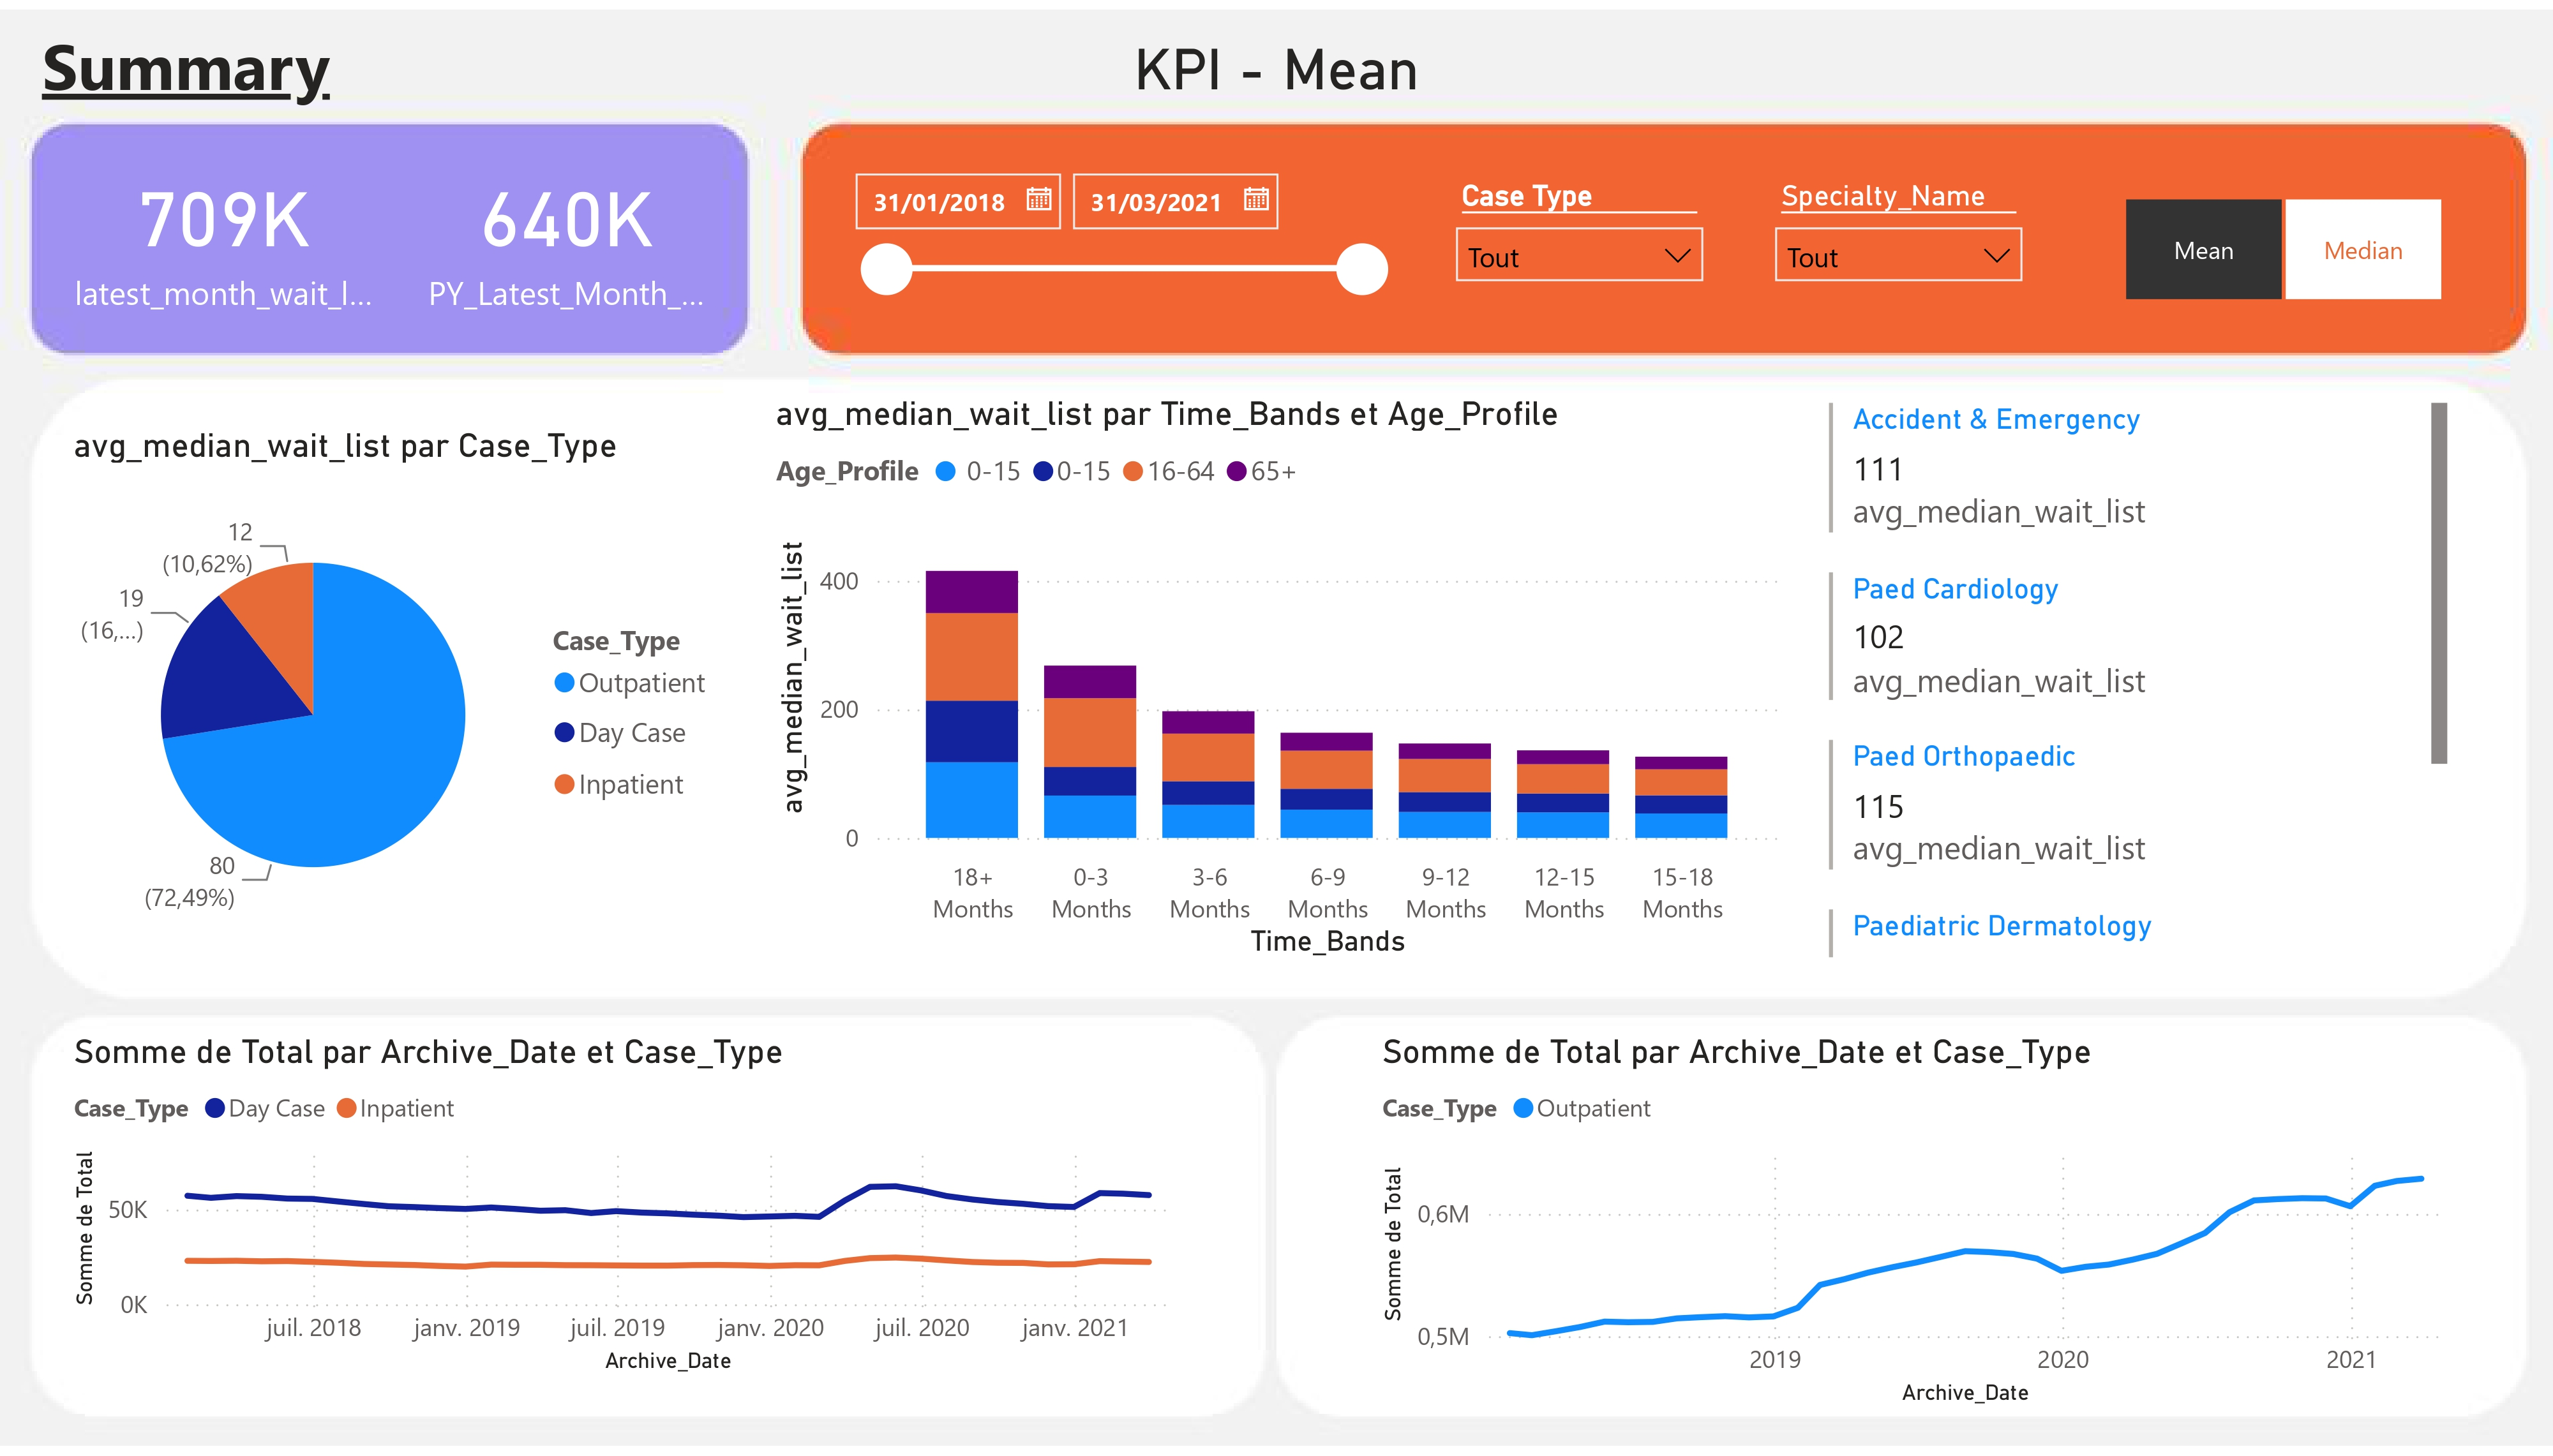

The page's visual inventory and layout, read from the dashboard file:
{"tool":"powerbi","page":{"name":"Summary","canvas":[1280,720],"ordinal":0},"visuals":[{"type":"card","fields":{"Values":["All_Data.latest_month_wait_list"]},"box":[32,64,160,96],"z":0},{"type":"card","fields":{"Values":["All_Data.PY_Latest_Month_Wait_List"]},"box":[208,64,152,96],"z":1000},{"type":"slicer","fields":{"Values":["Calc Avg.Calc Avg"]},"box":[1040,88,208,64],"z":2000},{"type":"pieChart","fields":{"Category":["All_Data.Case_Type"],"Y":["All_Data.avg_median_wait_list"]},"box":[32,208,336,272],"z":3000},{"type":"columnChart","fields":{"Y":["All_Data.avg_median_wait_list"],"Category":["All_Data.Time_Bands"],"Series":["All_Data.Age_Profile"]},"box":[384,192,512,288],"z":4000},{"type":"multiRowCard","fields":{"Values":["All_Data.Specialty_Name","All_Data.avg_median_wait_list"]},"box":[912,192,320,288],"z":5000},{"type":"lineChart","fields":{"Category":["All_Data.Archive_Date"],"Y":["Sum(All_Data.Total)"],"Series":["All_Data.Case_Type"]},"box":[32,512,576,176],"z":6000},{"type":"lineChart","fields":{"Category":["All_Data.Archive_Date"],"Y":["Sum(All_Data.Total)"],"Series":["All_Data.Case_Type"]},"box":[688,512,544,192],"z":7000},{"type":"slicer","fields":{"Values":["All_Data.Archive_Date"]},"box":[416,72,288,88],"z":8000},{"type":"slicer","fields":{"Values":["All_Data.Case_Type"]},"box":[720,80,144,80],"z":9000},{"type":"slicer","fields":{"Values":["All_Data.Specialty_Name"]},"box":[880,80,144,80],"z":10000},{"type":"textbox","box":[16,0,192,56],"z":11000},{"type":"card","fields":{"Values":["All_Data.key_indicator"]},"box":[547.8,10,184.4,35.6],"z":11001}]}

Visuals, with their boxes in screenshot pixels (x1, y1, x2, y2), scaled from the page's 1280x720 canvas onto the 2553x1456 screenshot:
card - All_Data.latest_month_wait_list: x1=64 y1=130 x2=383 y2=323
card - All_Data.PY_Latest_Month_Wait_List: x1=415 y1=130 x2=718 y2=323
slicer - Calc Avg.Calc Avg: x1=2074 y1=178 x2=2489 y2=308
pieChart - All_Data.Case_Type x All_Data.avg_median_wait_list: x1=64 y1=420 x2=734 y2=970
columnChart - All_Data.avg_median_wait_list x All_Data.Time_Bands: x1=766 y1=389 x2=1787 y2=970
multiRowCard - All_Data.Specialty_Name x All_Data.avg_median_wait_list: x1=1819 y1=389 x2=2457 y2=970
lineChart - All_Data.Archive_Date x Sum(All_Data.Total): x1=64 y1=1036 x2=1213 y2=1392
lineChart - All_Data.Archive_Date x Sum(All_Data.Total): x1=1372 y1=1036 x2=2457 y2=1423
slicer - All_Data.Archive_Date: x1=830 y1=145 x2=1404 y2=323
slicer - All_Data.Case_Type: x1=1436 y1=162 x2=1723 y2=323
slicer - All_Data.Specialty_Name: x1=1755 y1=162 x2=2042 y2=323
textbox: x1=32 y1=0 x2=415 y2=113
card - All_Data.key_indicator: x1=1093 y1=20 x2=1460 y2=93
